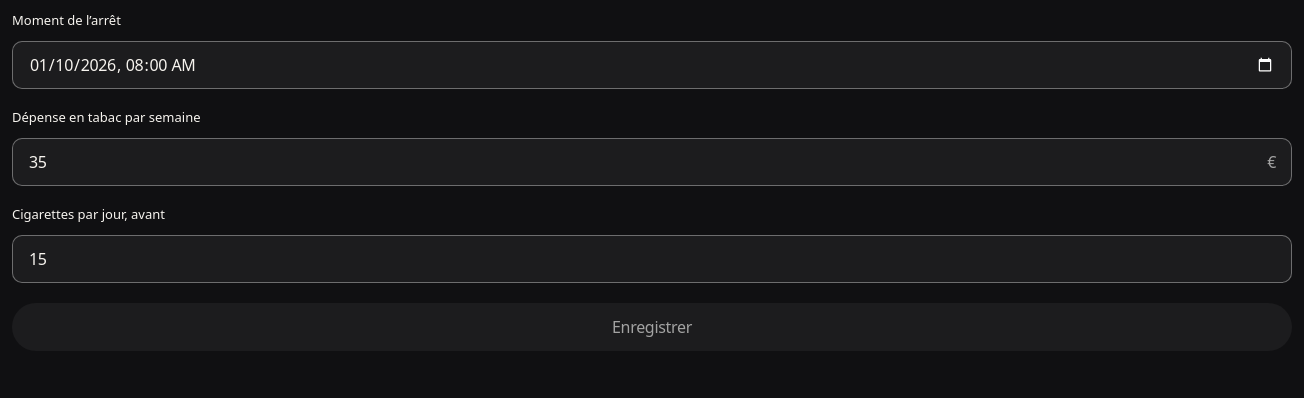
it: refuses a quit moment in the future
Replace the text in the field labelled "Moment de l’arrêt" with "2026-01-21T09:00" at (652, 65), box [12,41,1292,89]
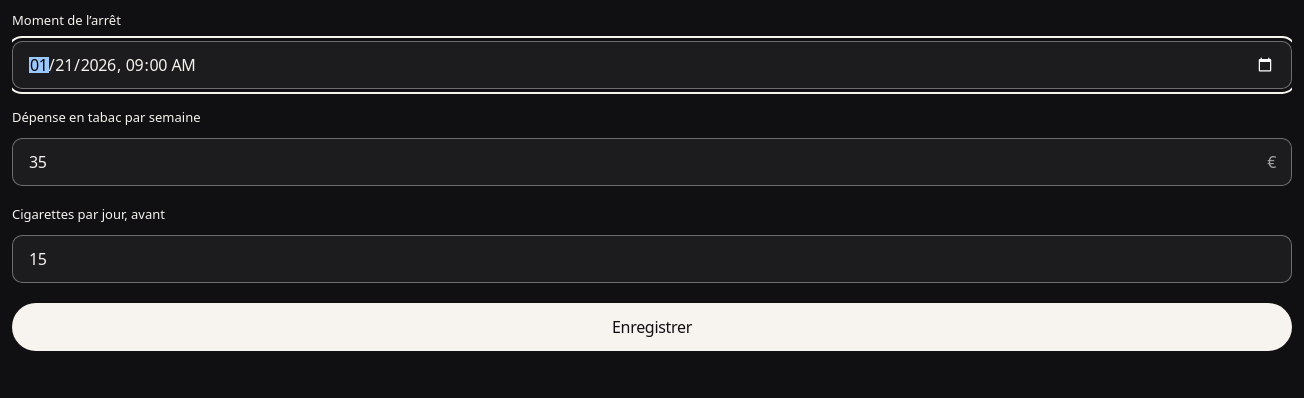
Click the button "Enregistrer".
click(652, 327)  # box [12,303,1292,351]
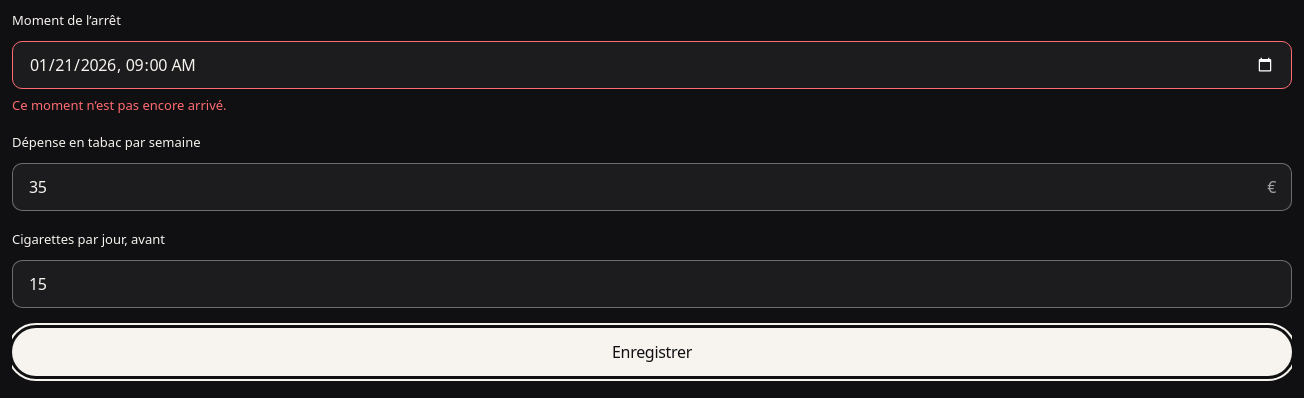
Now the message reads "Ce moment n’est pas encore arrivé.", box [12,96,227,114]
